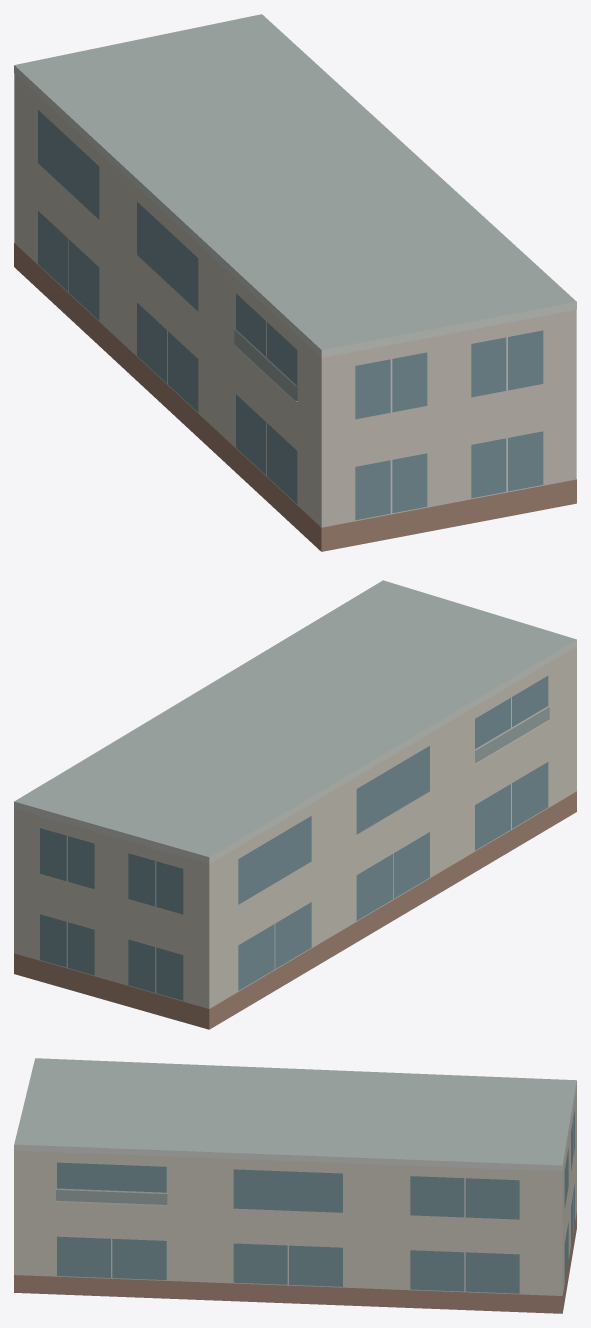
File: survey-upis-32725588.glb
3 views of the same model, one above another, from view 1: azimuth 30°, elevation 25°; view 2: azimuth 150°, elevation 25°; view 3: azimuth 270°, elevation 25° (orthographic). The views are drawn at different scales.
Parts seen in each view (by area): view 1: survey-upis-32725588.tmp; view 2: survey-upis-32725588.tmp; view 3: survey-upis-32725588.tmp.
Part boxes in pixels (x1=…): survey-upis-32725588.tmp: x1=14, y1=14, x2=576, y2=551; survey-upis-32725588.tmp: x1=14, y1=580, x2=576, y2=1029; survey-upis-32725588.tmp: x1=14, y1=1058, x2=576, y2=1313.
Size of the model in its own units: 9.49 by 6.1 by 21.
